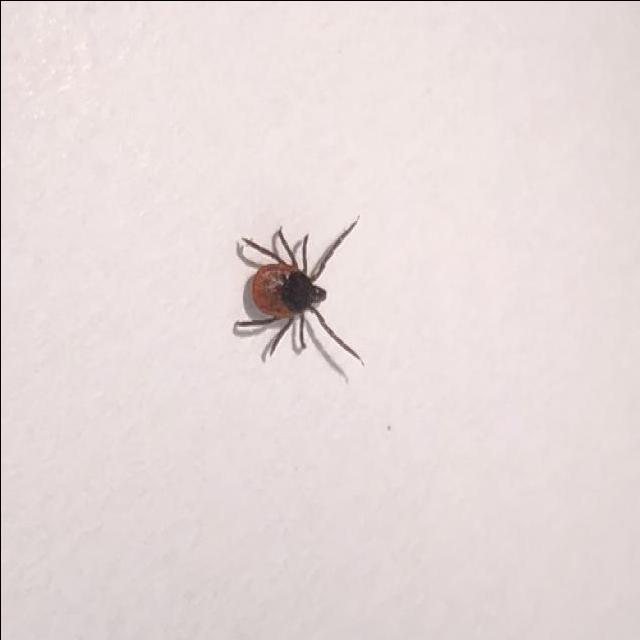Ixodes Ricinus-F: (233, 215, 362, 362)
